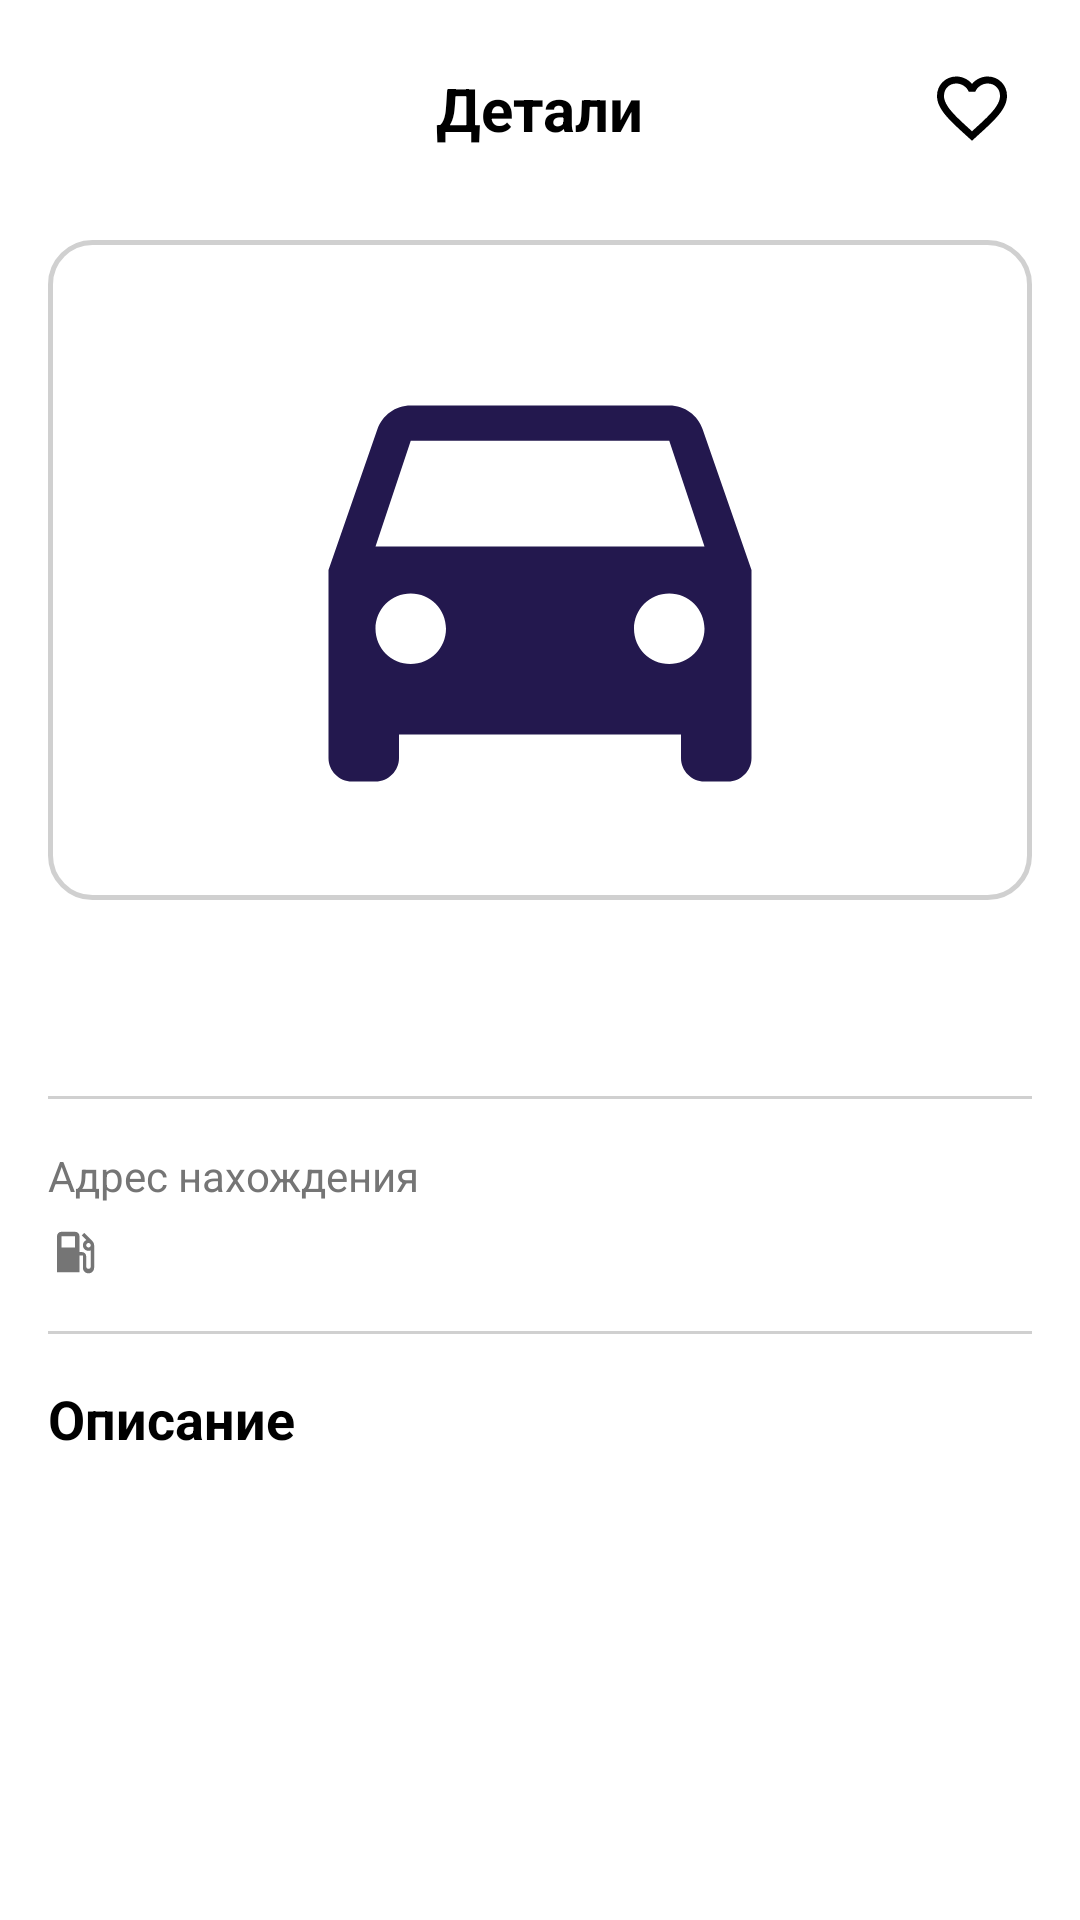

Icon bounding boxes for this 1080 × 1920 phone screenshot, format (x1, y1, x2, y2):
heart: (937, 76, 1007, 141)
